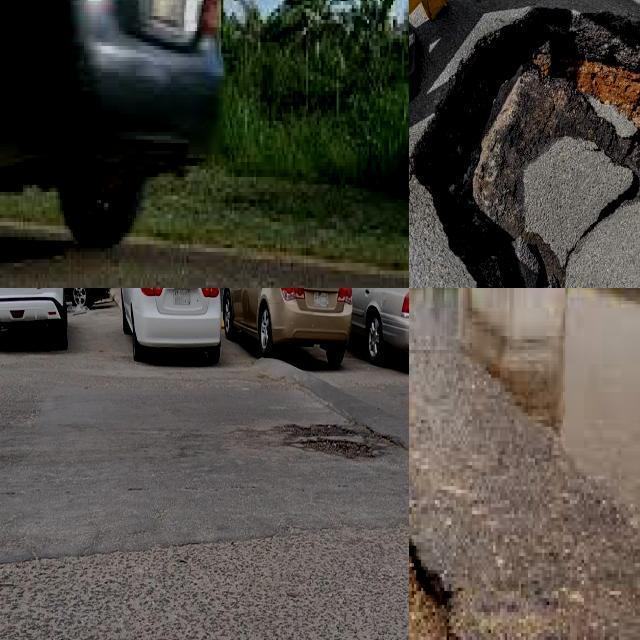Pothole: (410, 7, 640, 288), (286, 425, 387, 463)
